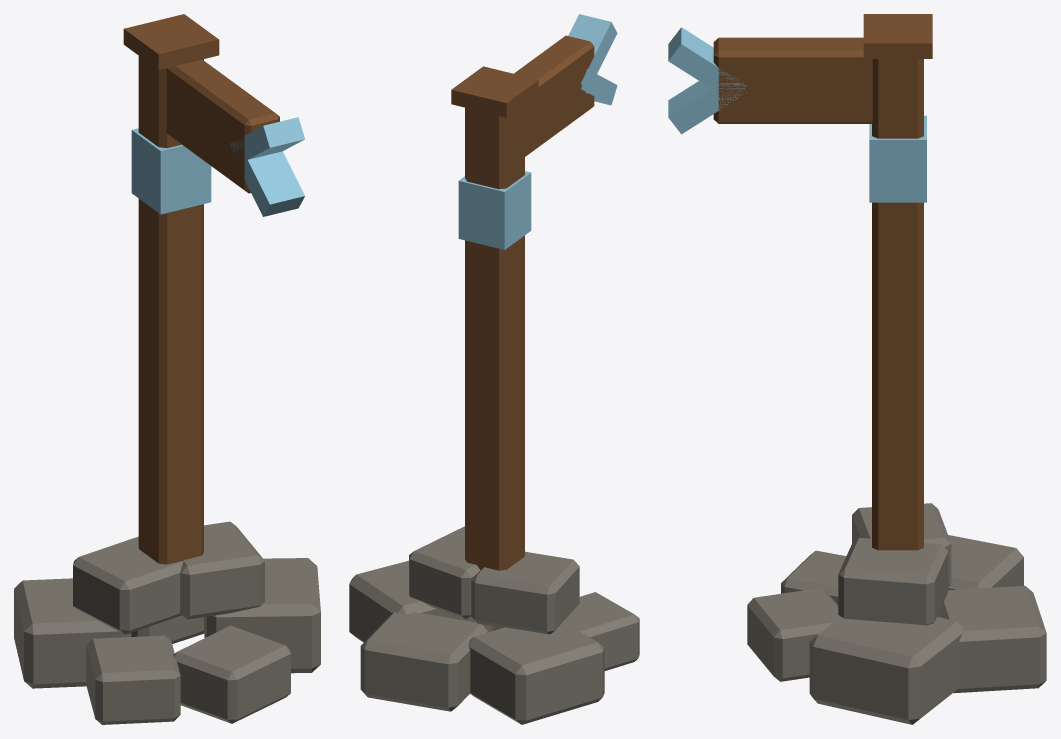
File: Prop_Lab_PassageMarker.glb
3 renders of one model, left to right at view 1: azimuth 30°, elevation 25°; view 2: azimuth 150°, elevation 25°; view 3: azimuth 270°, elevation 25°, orthographic. The views are drawn at different scales.
Visible parts, largest first — view 1: Prop_Lab_PassageMarker; view 2: Prop_Lab_PassageMarker; view 3: Prop_Lab_PassageMarker.
Boxes of the visible parts, x1,y1,x2,y2 form: Prop_Lab_PassageMarker: (14,14,320,724); Prop_Lab_PassageMarker: (349,14,639,724); Prop_Lab_PassageMarker: (668,14,1046,724).
Size of what is drawn, in the model's own units: 0.5623 by 1.2 by 0.6567.
